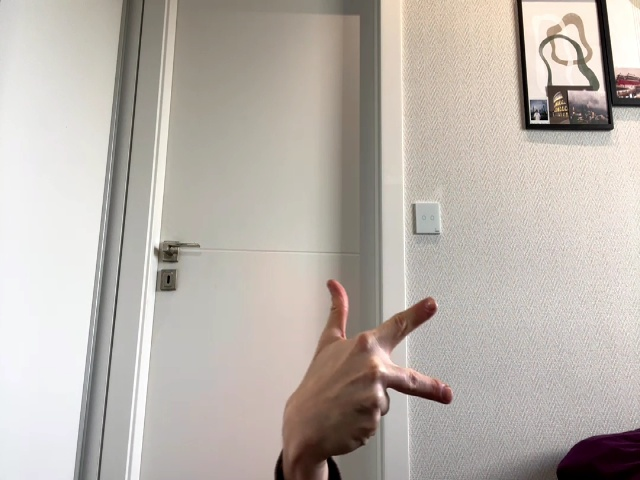K: (292, 280, 453, 445)
